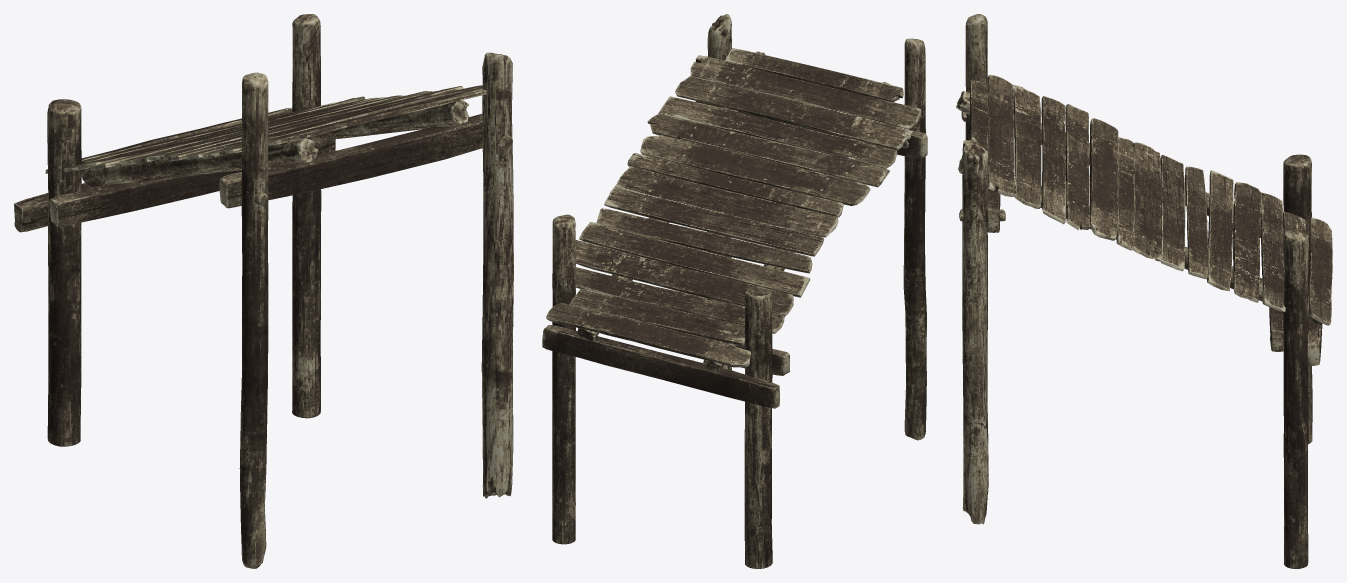
Rendered from wooden_pier_section_04.glb.
The picture shows the model from 3 angles, left to right: view 1: azimuth 30°, elevation 25°; view 2: azimuth 150°, elevation 25°; view 3: azimuth 270°, elevation 25°; orthographic projection. The views are drawn at different scales.
Visible parts, largest first — view 1: body; view 2: body; view 3: body.
Boxes of the visible parts, <box> form: body: <box>14,14,513,568</box>; body: <box>542,14,927,568</box>; body: <box>956,14,1332,568</box>.
Size of the model in its own units: 2.46 by 4.16 by 3.16.
1 material, 1 textured.
